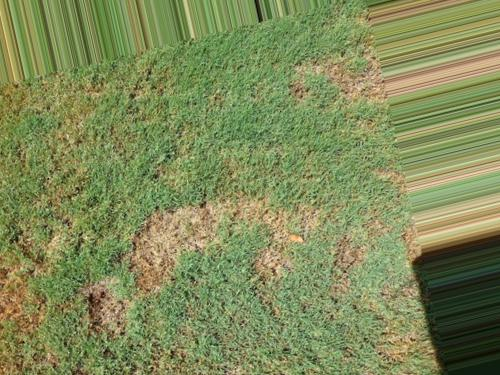patch: (303, 62, 383, 113), (136, 211, 211, 263), (358, 296, 417, 357), (250, 187, 299, 258), (320, 216, 375, 270), (11, 274, 44, 346), (84, 291, 125, 328), (68, 78, 107, 101)
